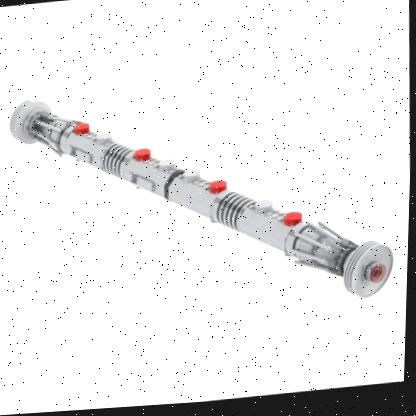sith_lightsaber: (0, 59, 409, 344)
